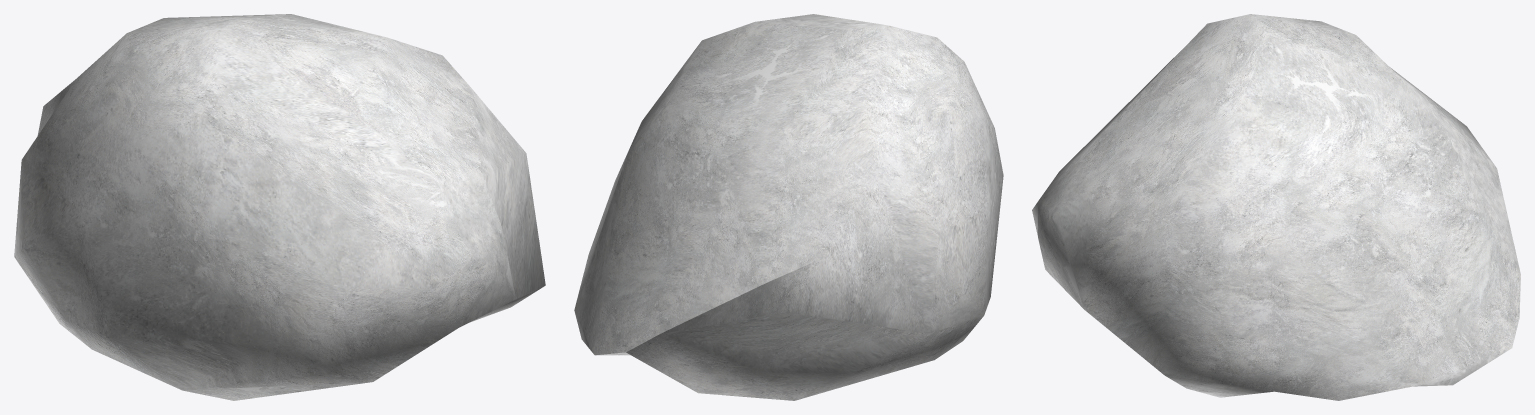
The model's file is rock_00G.fbx.
3 views of the same model, side by side, from view 1: azimuth 30°, elevation 25°; view 2: azimuth 150°, elevation 25°; view 3: azimuth 270°, elevation 25° (orthographic). The views are drawn at different scales.
Visible parts, largest first — view 1: rock_00G; view 2: rock_00G; view 3: rock_00G.
Boxes of the visible parts, x1,y1,x2,y2 form: rock_00G: [14, 14, 545, 400]; rock_00G: [574, 14, 1003, 400]; rock_00G: [1032, 14, 1520, 400].
Bounding box in the file's own units: 199 × 159 × 219.
